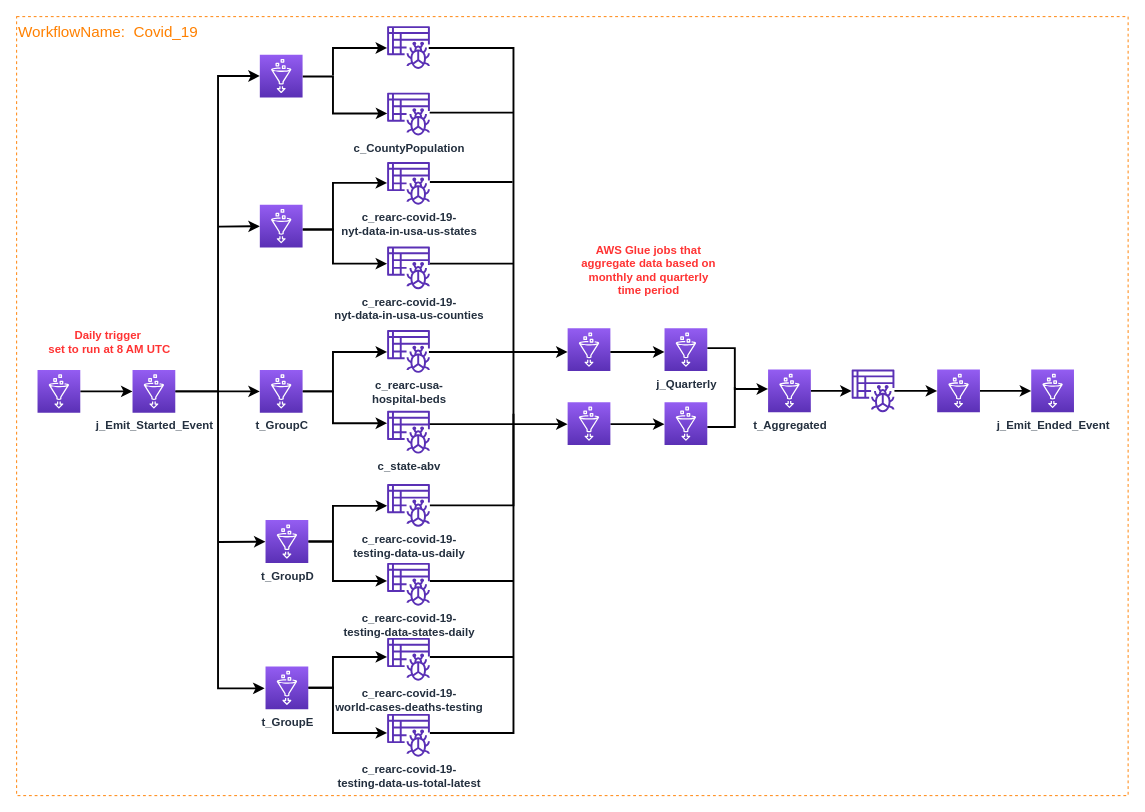
Image size: 1145x812. Some labels were removed from this diagram. Each missing label, with the centre of its shape:
"c_aggregated" goes at (872,390).
"c_countrycode" goes at (408,47).
"j_Monthly" goes at (685,423).
"t_End" goes at (958,390).
"t_GroupA" goes at (281,75).
"t_GroupB" goes at (281,225).
"t_Month" goes at (588,423).
"t_Quarter" goes at (588,349).
"t_Start" goes at (58,391).
